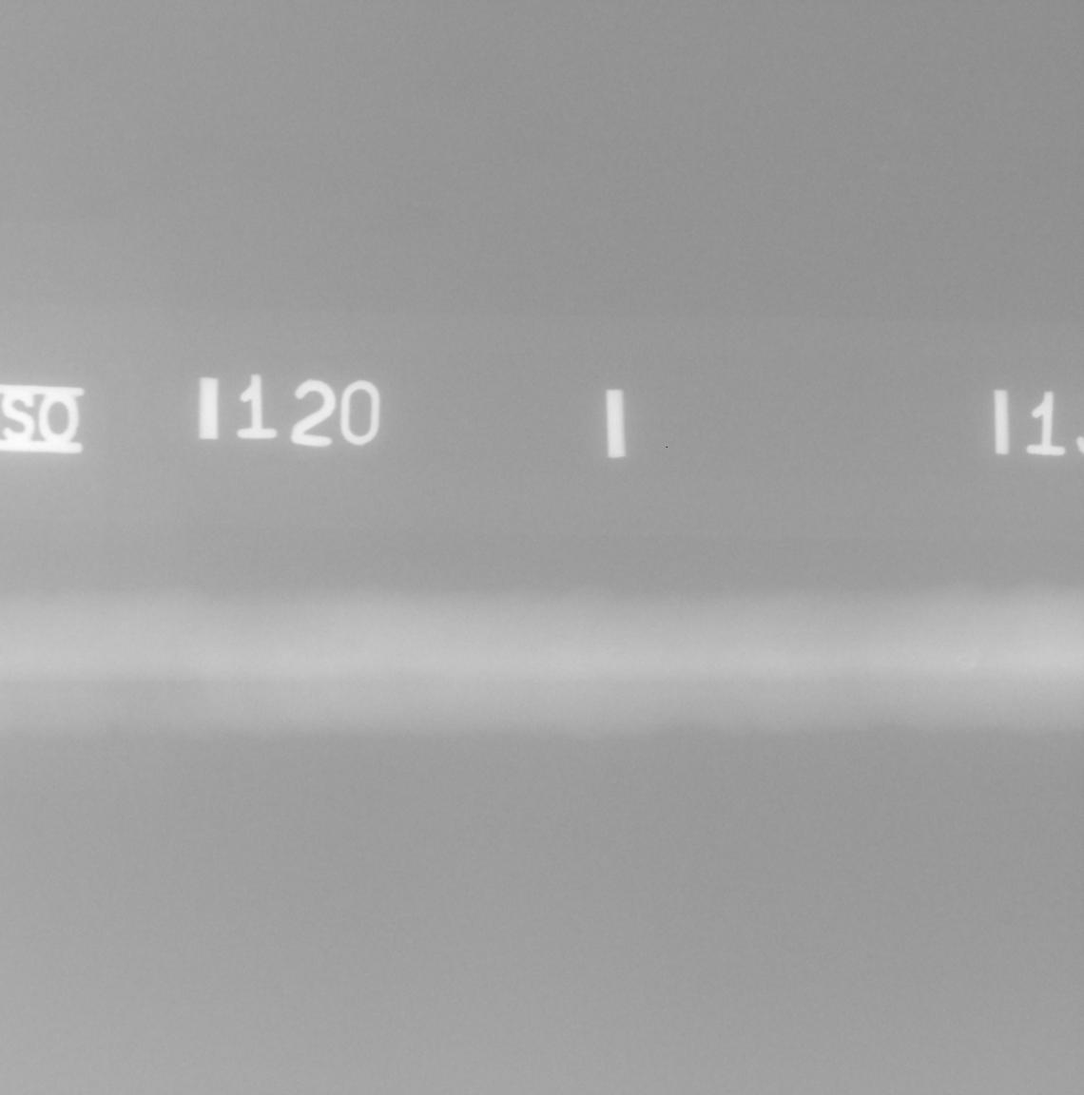Pore/Porosity: (962, 658, 968, 662)
